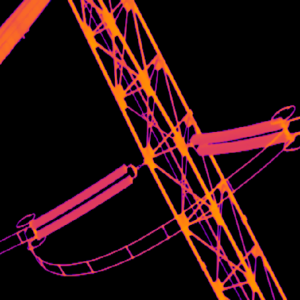insulator: (27, 162, 126, 230), (35, 171, 132, 240), (189, 116, 283, 146), (194, 128, 285, 156)
